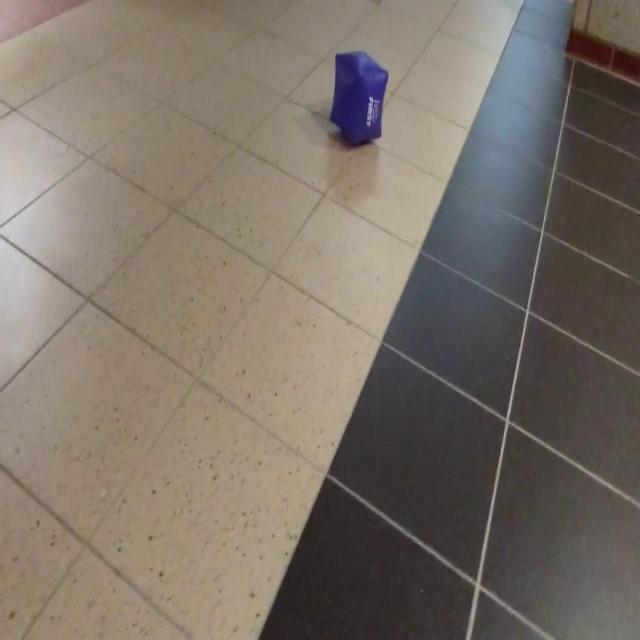frc_cube: (328, 51, 388, 146)
